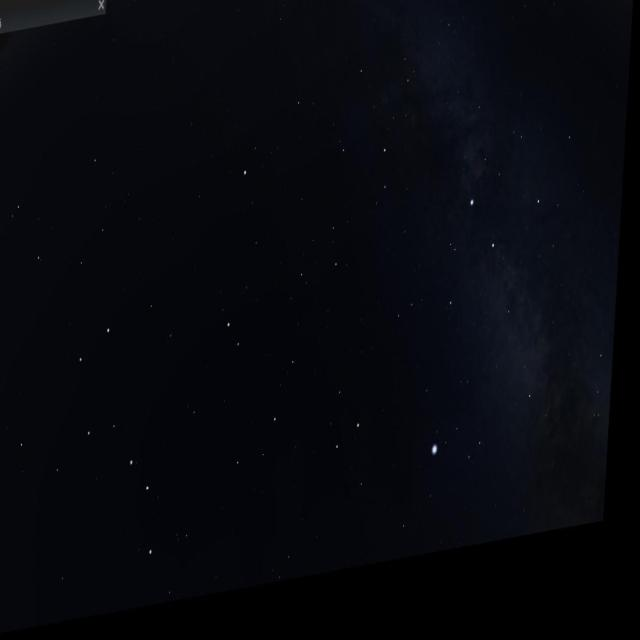cygnus: (430, 190, 555, 444)
lyra: (425, 426, 493, 510)
ursa_major: (59, 313, 183, 590)
